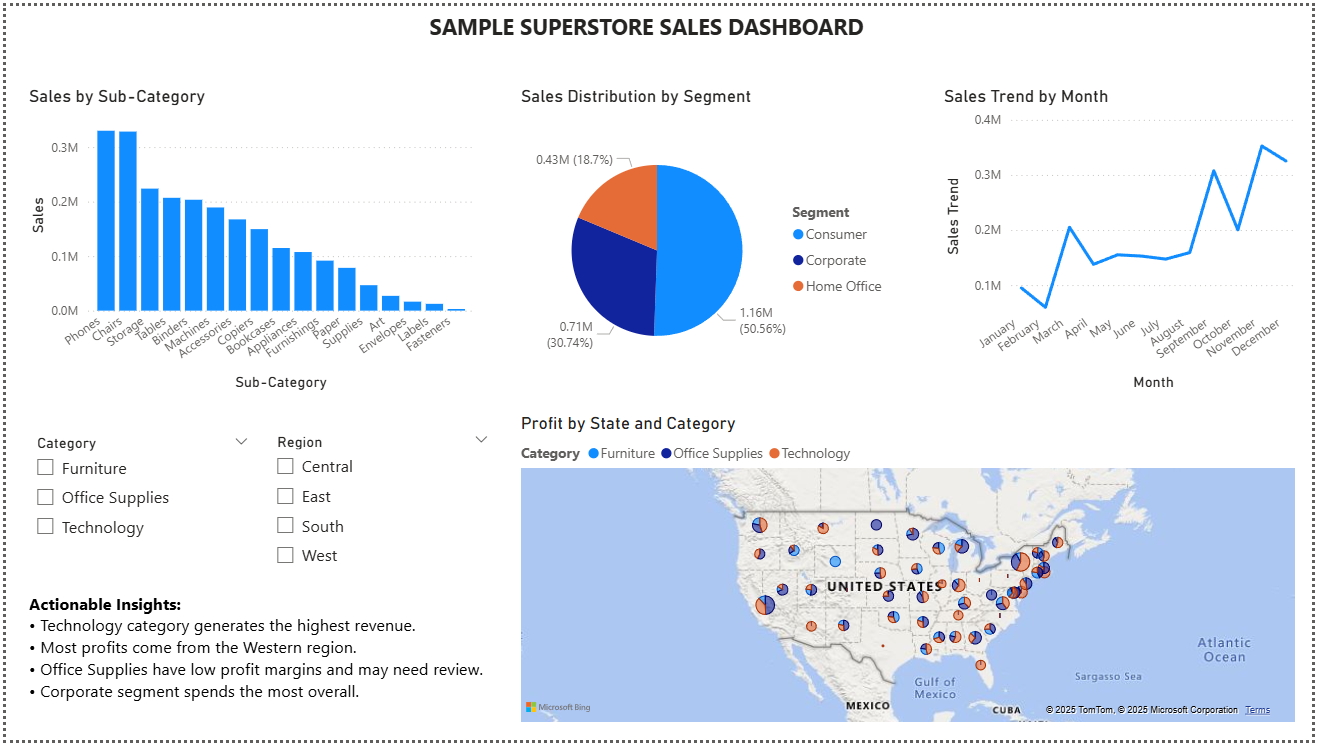

Layout of this report page (visuals, bound fields, positions):
{"tool":"powerbi","page":{"name":"Page 1","canvas":[1280,720],"ordinal":0},"visuals":[{"type":"clusteredColumnChart","fields":{"Category":["Orders.Sub-Category"],"Y":["Sum(Orders.Sales)"]},"box":[16.9,78,445.8,303.4],"z":0},{"type":"pieChart","fields":{"Category":["Orders.Segment"],"Y":["Sum(Orders.Sales)"]},"box":[500,78,372.9,303.4],"z":1000},{"type":"lineChart","fields":{"Category":["Orders.Order Date.Variation.Date Hierarchy.Month"],"Y":["Sum(Orders.Sales)"]},"box":[915.3,78,354.2,303.4],"z":2000},{"type":"slicer","fields":{"Values":["Orders.Region"]},"box":[252.5,413.6,232.2,144.1],"z":3000},{"type":"slicer","fields":{"Values":["Orders.Category"]},"box":[16.9,415.3,232.2,133.9],"z":4000},{"type":"textbox","box":[16.9,569.5,469.5,137.3],"z":5000},{"type":"textbox","box":[410.2,0,576.3,42.4],"z":6000},{"type":"map","fields":{"Category":["Orders.State"],"Size":["Sum(Orders.Profit)"],"Series":["Orders.Category"]},"box":[500,398.3,769.5,308.5],"z":7000}]}

Visuals, with their boxes in screenshot pixels (x1, y1, x2, y2), scaled from the page's 1280x720 canvas onto the 1317x745 screenshot:
clusteredColumnChart - Orders.Sub-Category x Sum(Orders.Sales): (x1=17, y1=81, x2=476, y2=395)
pieChart - Orders.Segment x Sum(Orders.Sales): (x1=514, y1=81, x2=898, y2=395)
lineChart - Orders.Order Date.Variation.Date Hierarchy.Month x Sum(Orders.Sales): (x1=942, y1=81, x2=1306, y2=395)
slicer - Orders.Region: (x1=260, y1=428, x2=499, y2=577)
slicer - Orders.Category: (x1=17, y1=430, x2=256, y2=568)
textbox: (x1=17, y1=589, x2=500, y2=731)
textbox: (x1=422, y1=0, x2=1015, y2=44)
map - Orders.State x Sum(Orders.Profit): (x1=514, y1=412, x2=1306, y2=731)
